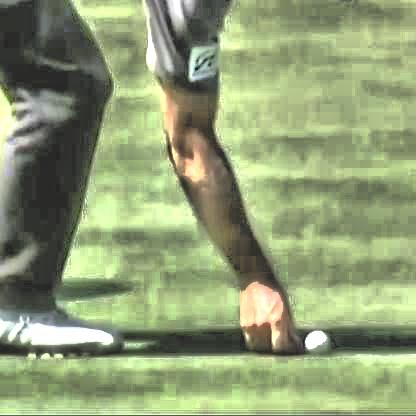golfball: (300, 326, 328, 354)
